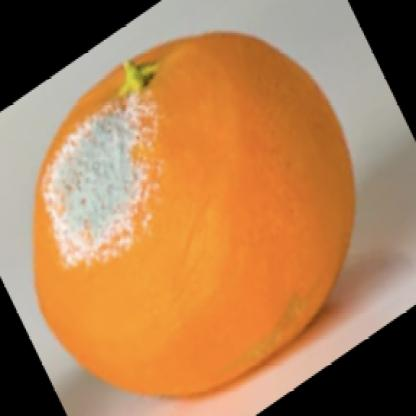rotten: (36, 33, 355, 400)
